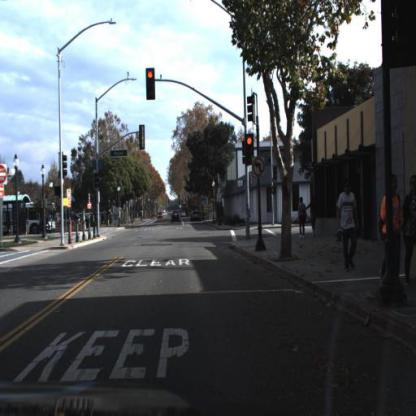car: (168, 206, 187, 228), (172, 209, 184, 225), (158, 213, 164, 221)
pedestrian: (379, 177, 407, 290), (335, 180, 362, 268), (297, 193, 311, 243), (308, 195, 322, 243), (309, 194, 321, 245), (297, 194, 308, 244)
trafficLight-Green: (393, 1, 416, 68)
trafficLight-Red: (145, 70, 157, 106), (244, 137, 255, 171)
truck: (1, 200, 58, 238)
